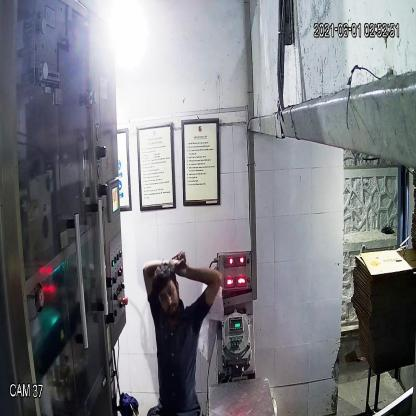no_goggles: (156, 281, 178, 305)
